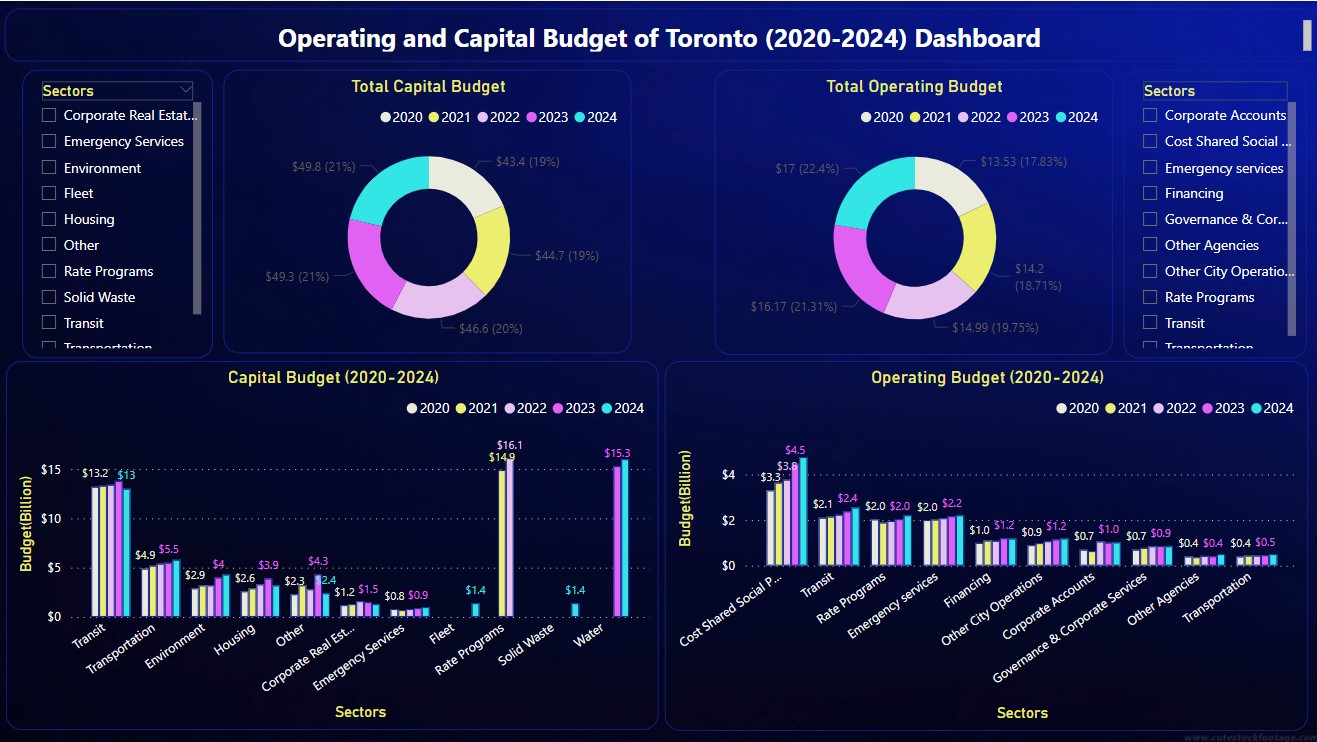

The page's visual inventory and layout, read from the dashboard file:
{"tool":"powerbi","page":{"name":"Page 1","canvas":[1280,720],"ordinal":0},"visuals":[{"type":"textbox","box":[8.9,7.8,1269.7,51.2],"z":0},{"type":"clusteredColumnChart","title":"Capital Budget (2020-2024)","fields":{"Y":["Sum(Capital budget (2020-2024).2020)","Sum(Capital budget (2020-2024).2021)","Sum(Capital budget (2020-2024).2022)","Sum(Capital budget (2020-2024).2023)","Sum(Capital budget (2020-2024).2024)"],"Category":["Capital budget (2020-2024).Sectors"]},"box":[10,347.2,629.9,356.1],"z":1000},{"type":"clusteredColumnChart","title":"Operating Budget (2020-2024)","fields":{"Y":["Sum(Operating budget (2020-2024).2020)","Sum(Operating budget (2020-2024).2021)","Sum(Operating budget (2020-2024).2022)","Sum(Operating budget (2020-2024).2023)","Sum(Operating budget (2020-2024).2024)"],"Category":["Operating budget (2020-2024).Sectors"]},"box":[644.8,347,620.8,356.6],"z":2000},{"type":"donutChart","title":"Total Capital Budget ","fields":{"Y":["Sum(Capital Budget.2020)","Sum(Capital Budget.2021)","Sum(Capital Budget.2022)","Sum(Capital Budget.2023)","Sum(Capital Budget.2024)"]},"box":[219.2,66.8,393.9,273.8],"z":3000},{"type":"donutChart","title":"Total Operating Budget","fields":{"Y":["Sum(Operating Budget.2020)","Sum(Operating Budget.2021)","Sum(Operating Budget.2022)","Sum(Operating Budget.2023)","Sum(Operating Budget.2024)"]},"box":[693.3,66.8,383.9,274.9],"z":4000},{"type":"slicer","fields":{"Values":["Capital budget (2020-2024).Sectors"]},"box":[25.6,66.8,183.6,278.2],"z":5000},{"type":"slicer","fields":{"Values":["Operating budget (2020-2024).Sectors"]},"box":[1088.3,66.8,176.9,278.2],"z":6000}]}

Visuals, with their boxes in screenshot pixels (x1, y1, x2, y2), scaled from the page's 1280x720 canvas onto the 1317x742 screenshot:
textbox: bbox(9, 8, 1316, 61)
"Capital Budget (2020-2024)" clusteredColumnChart: bbox(10, 358, 658, 725)
"Operating Budget (2020-2024)" clusteredColumnChart: bbox(663, 358, 1302, 725)
"Total Capital Budget " donutChart: bbox(226, 69, 631, 351)
"Total Operating Budget" donutChart: bbox(713, 69, 1108, 352)
slicer - Capital budget (2020-2024).Sectors: bbox(26, 69, 215, 356)
slicer - Operating budget (2020-2024).Sectors: bbox(1120, 69, 1302, 356)
